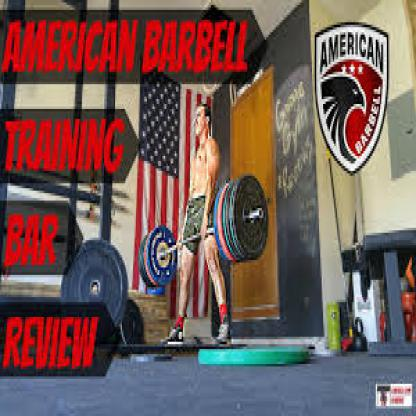Barbell: (224, 169, 274, 266)
